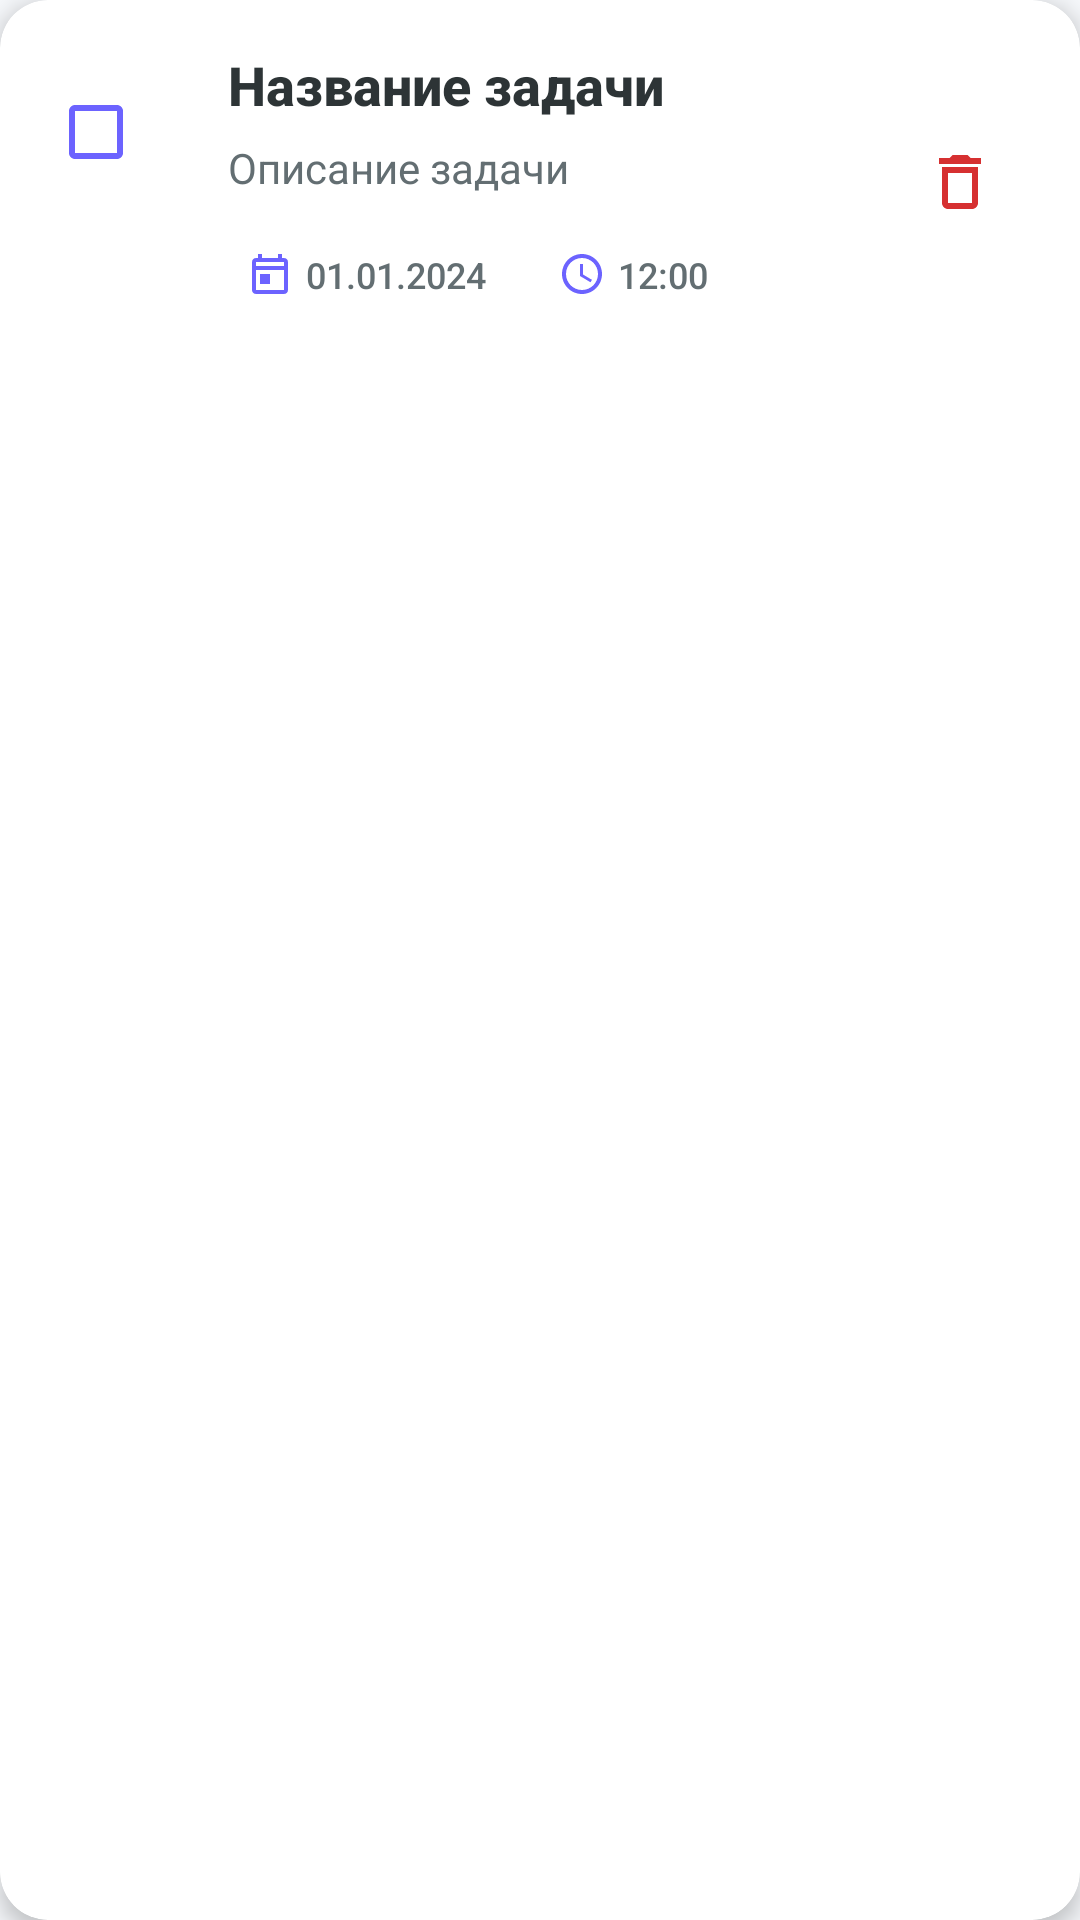

Icons on this 1080*1920 Android screen, each with its box as (x1, y1, x2, y2):
calendar: (252, 254, 288, 294)
clock: (562, 254, 602, 294)
Удалить задачу: (939, 155, 981, 209)
